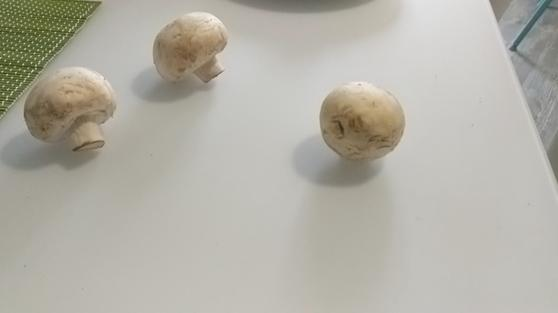champignon: (25, 65, 115, 153), (324, 81, 406, 159), (154, 9, 231, 87)
